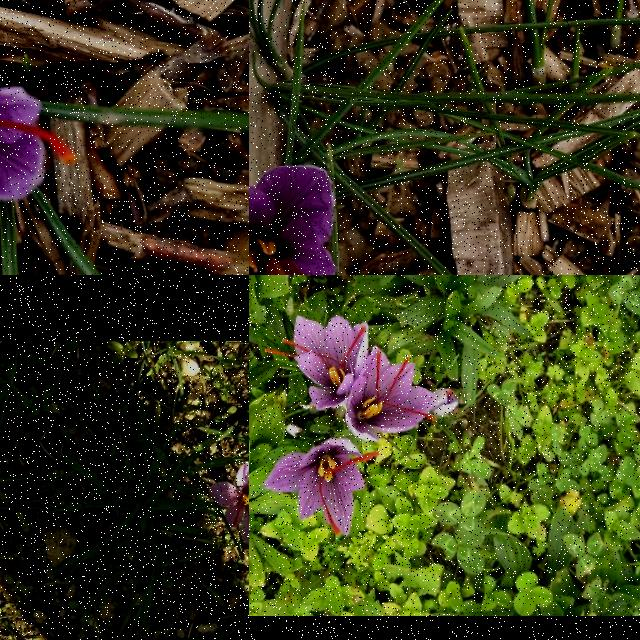flower: (249, 166, 393, 275), (0, 45, 73, 213), (263, 439, 379, 536), (266, 316, 370, 410), (345, 345, 437, 441), (209, 461, 249, 550), (432, 388, 458, 416)
